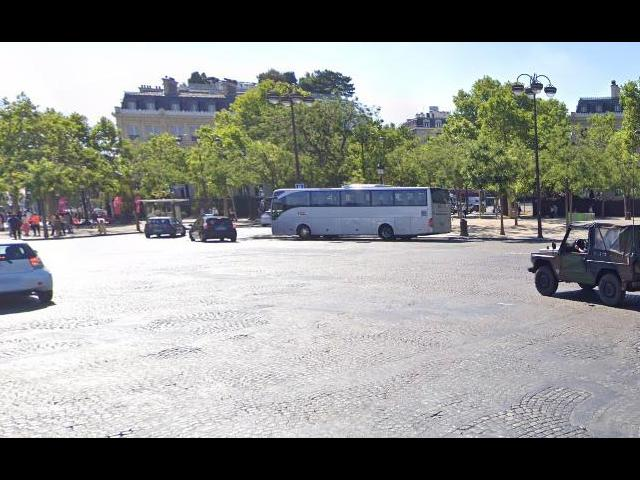bus: (268, 186, 456, 254)
